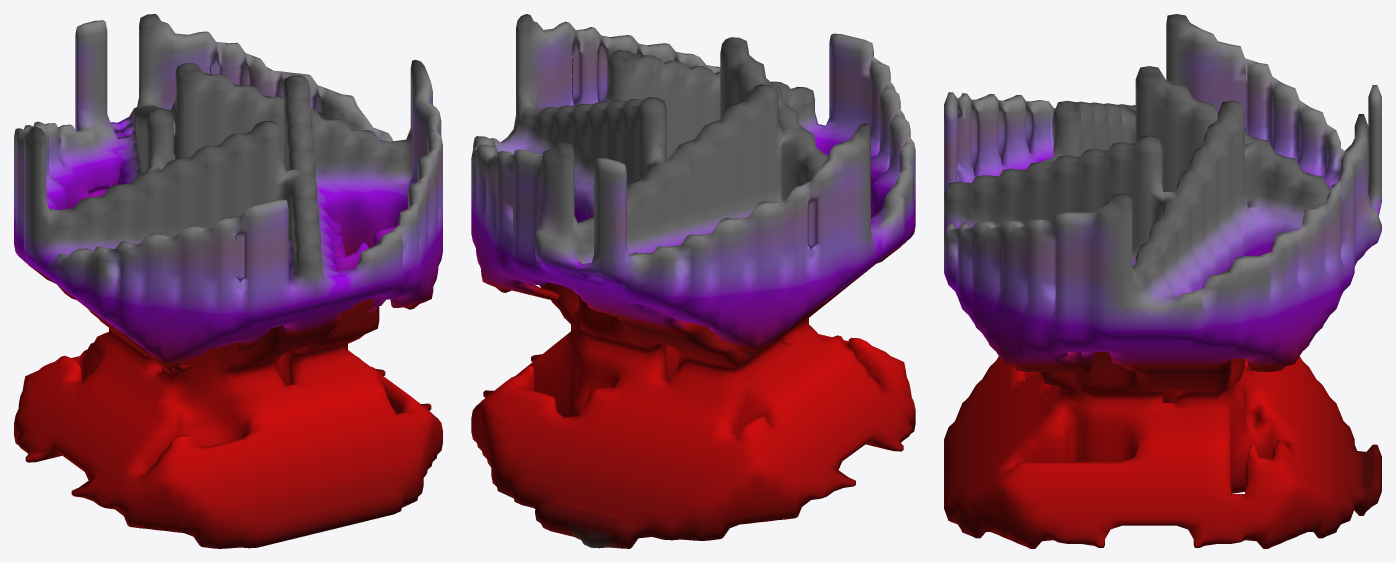
3 views of the same model, side by side, from view 1: azimuth 30°, elevation 25°; view 2: azimuth 150°, elevation 25°; view 3: azimuth 270°, elevation 25° (orthographic). The views are drawn at different scales.
Bounding box in the file's own units: 1.6 × 1.6 × 1.6.
